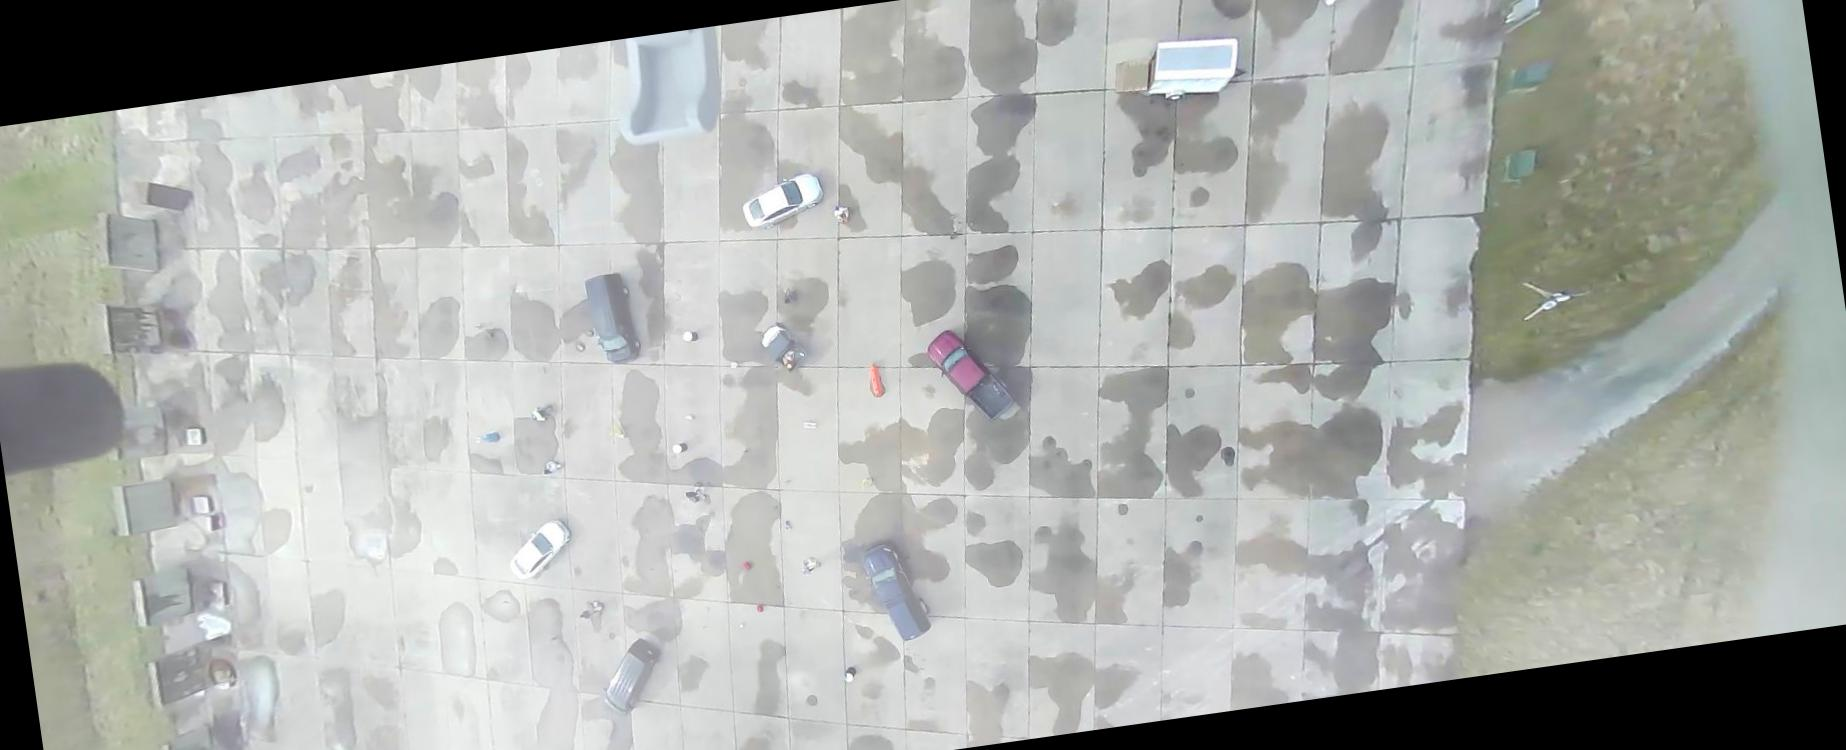vehicle: (925, 322, 1018, 428), (860, 538, 934, 644), (595, 636, 669, 718), (584, 270, 643, 368), (740, 170, 827, 232), (505, 517, 576, 580), (758, 317, 810, 376)
